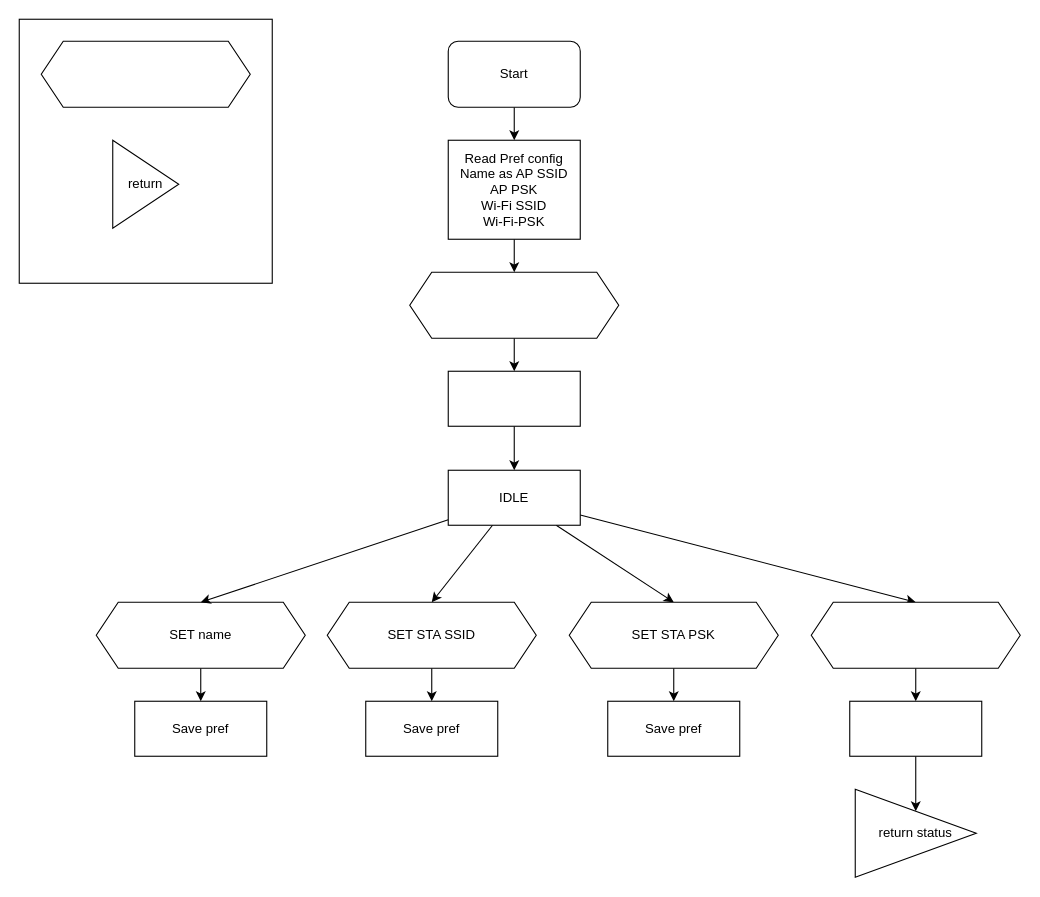
The diagram is 1040 pixels wide and 897 high, and some of its shapes have lost their labels. The shapes that lost their labels are listed below. From the top down, each one's centre as x and y in pixels, then its label:
the point at 145,73: SET Command
the point at 514,304: SET Start
the point at 513,398: connect AP connect Wi-Fi
the point at 915,634: SET Restart STA
the point at 915,728: Connect with new STA SSID PSK
